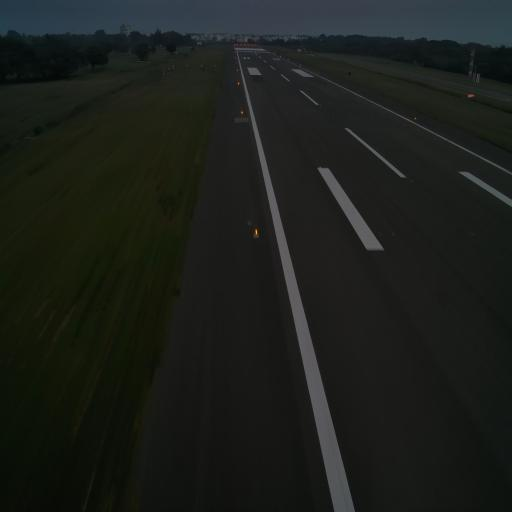off: (470, 229, 476, 240), (377, 230, 382, 240), (392, 228, 396, 240), (410, 177, 414, 186), (324, 147, 328, 152), (317, 146, 320, 152), (415, 149, 418, 154), (422, 149, 425, 154), (429, 150, 431, 154), (309, 146, 311, 150)
on: (252, 225, 260, 241), (413, 114, 417, 122), (240, 109, 245, 115)
